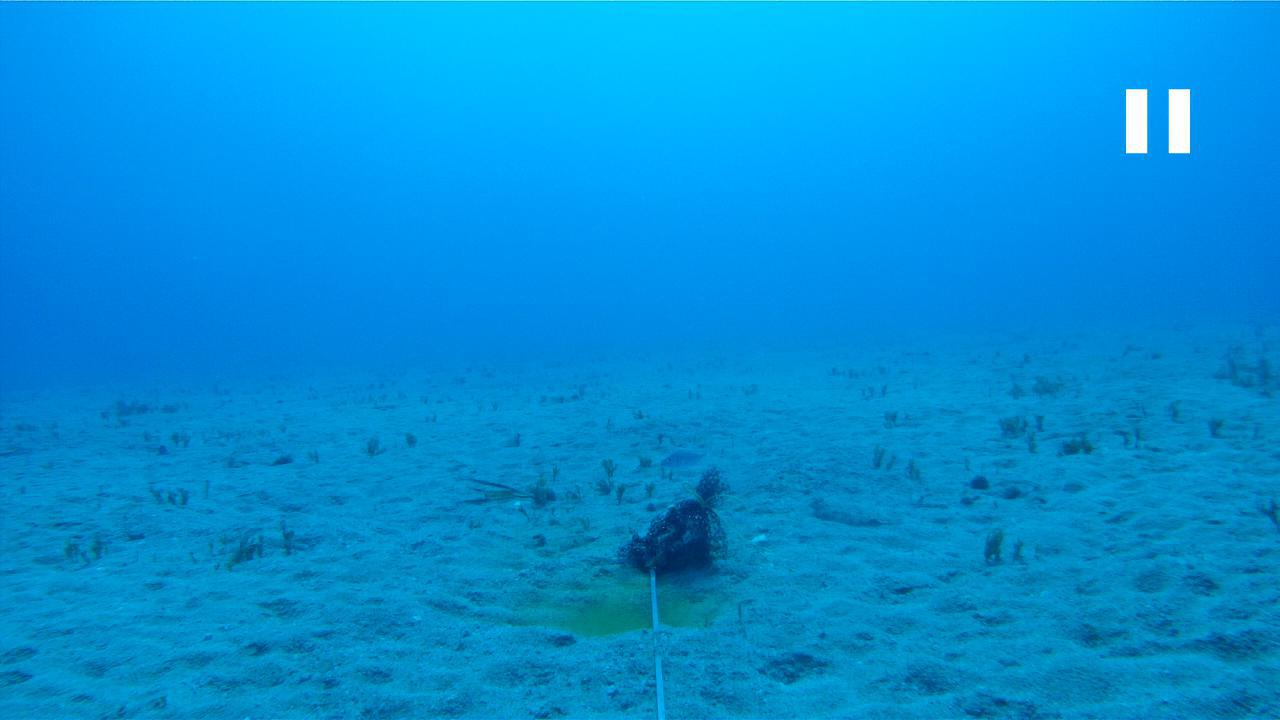bothus: (810, 492, 903, 524)
